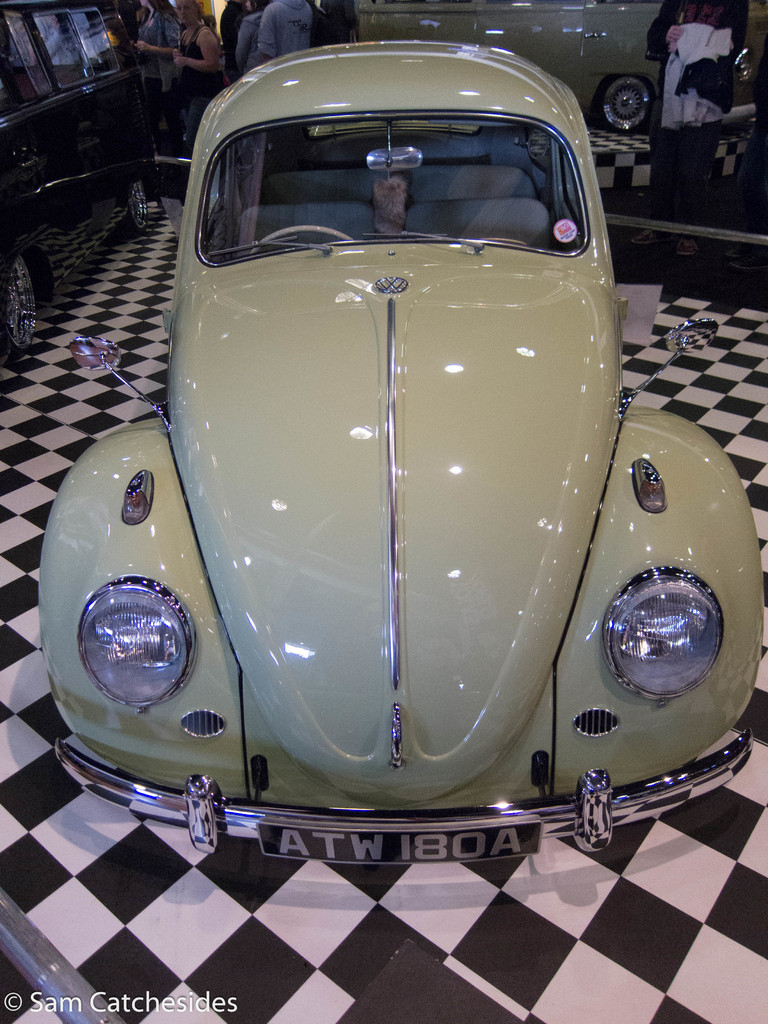person: (253, 0, 313, 69)
